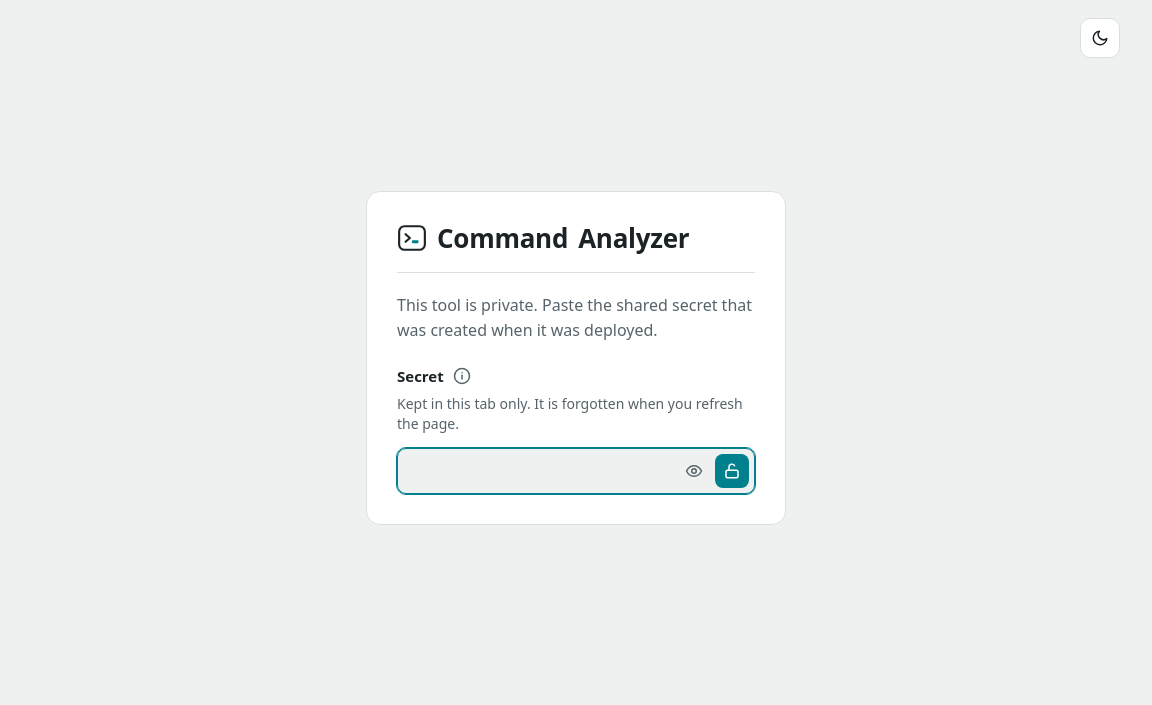
it: analysis › sends the command and shows the result
In the password field labelled "Secret": (576, 471) [397,448,755,494], type "pw"
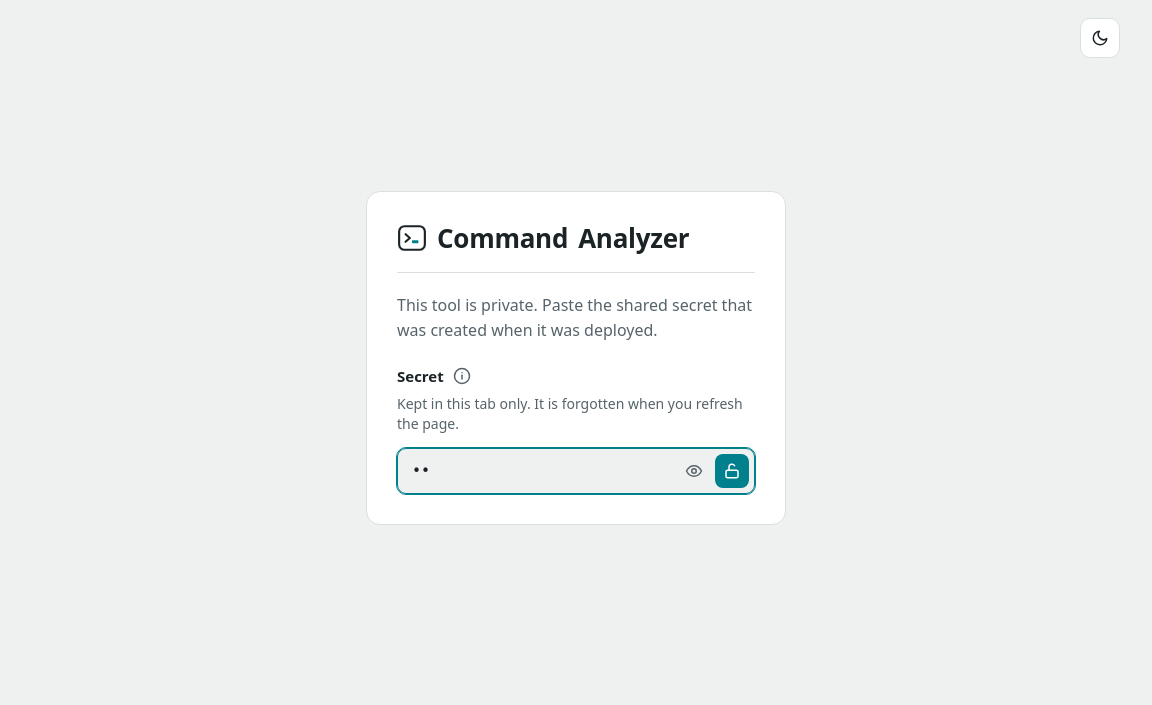
Click the button named "Unlock": (732, 471) [715,454,749,488]
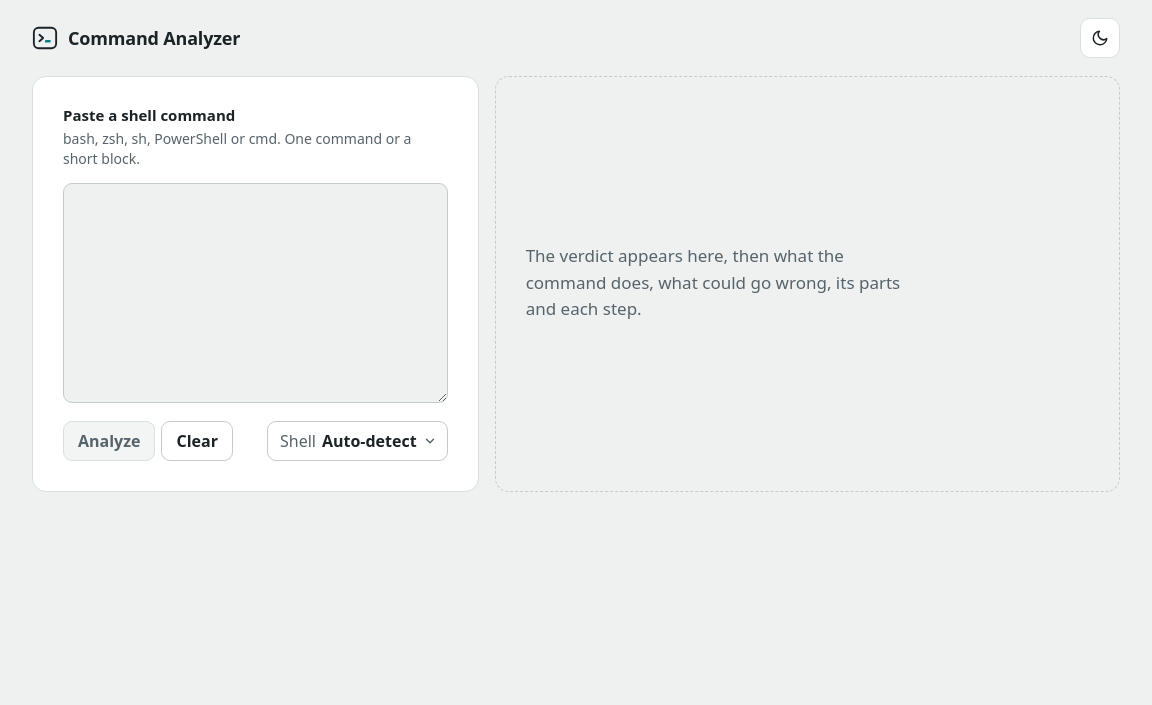
Check: the text box labelled "Paste a shell command" is shown
In the text box labelled "Paste a shell command": (255, 293) [63,183,448,403], type "rm -rf build"
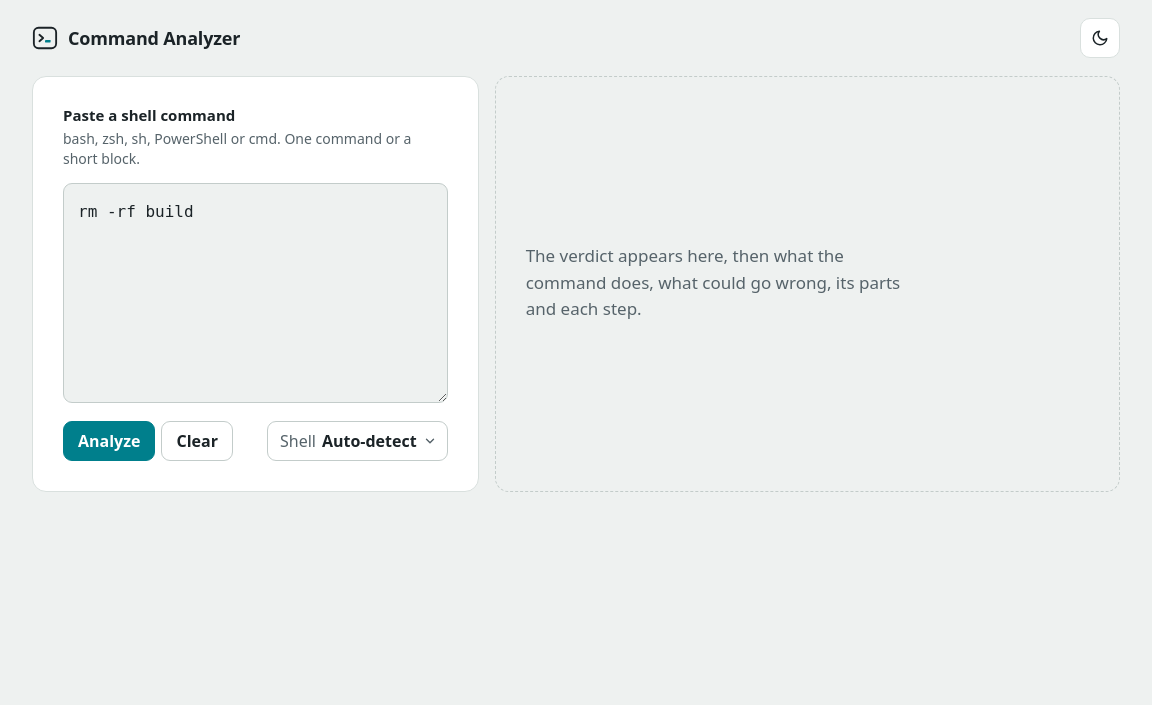
Click the button "Analyze": (109, 441) [63,421,156,461]
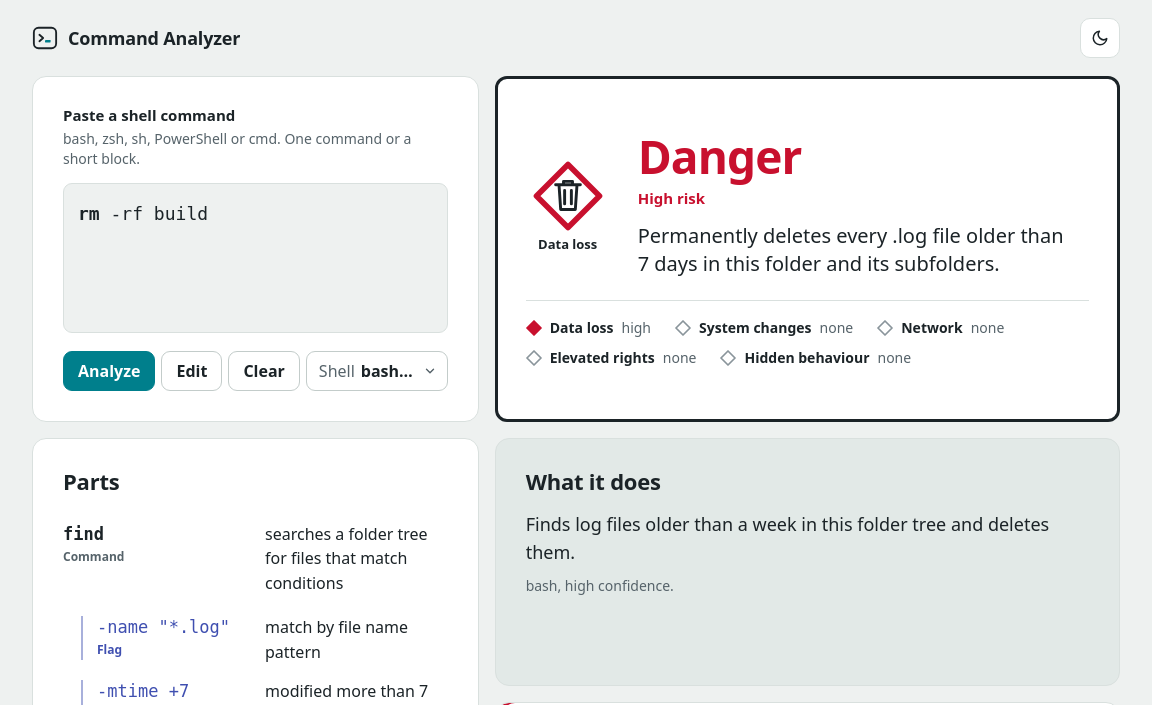
Check: the text "Permanently deletes every .log file older than 7 days in this folder and its subfolders." is shown, box [638,222,1064,277]
